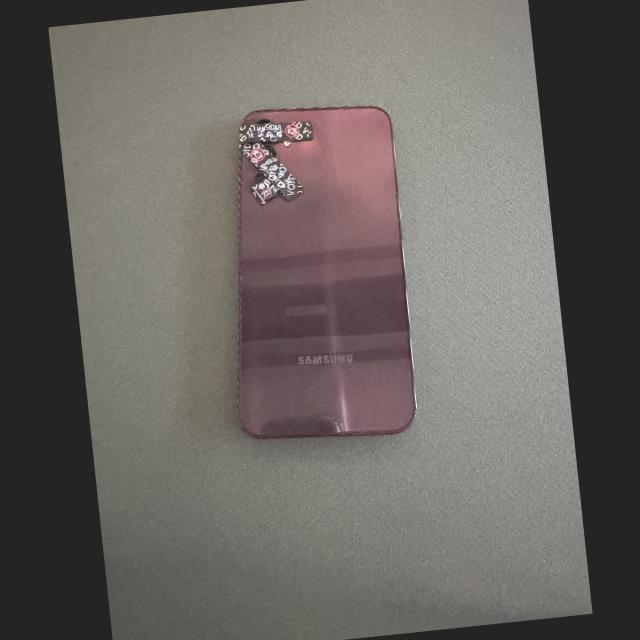lens: (264, 145, 276, 158), (254, 173, 266, 186), (258, 120, 273, 124)
phone: (237, 106, 415, 438)
sticker: (240, 140, 304, 202), (238, 121, 313, 151), (251, 177, 280, 205)
